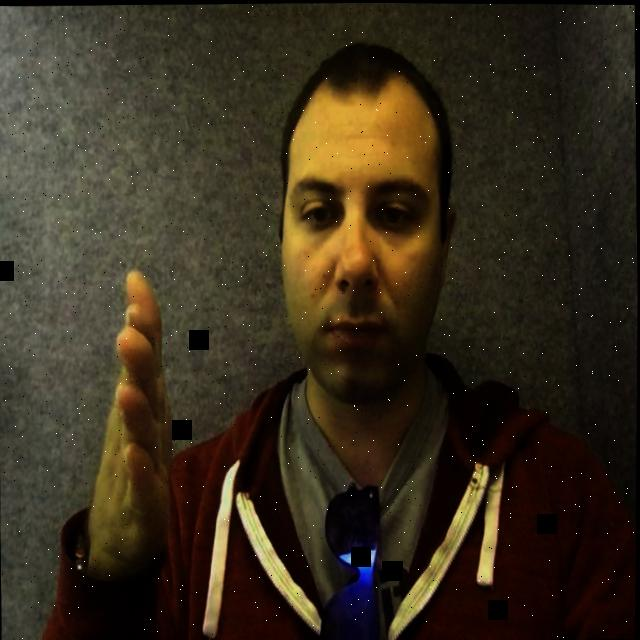Paper: (75, 260, 178, 603)
